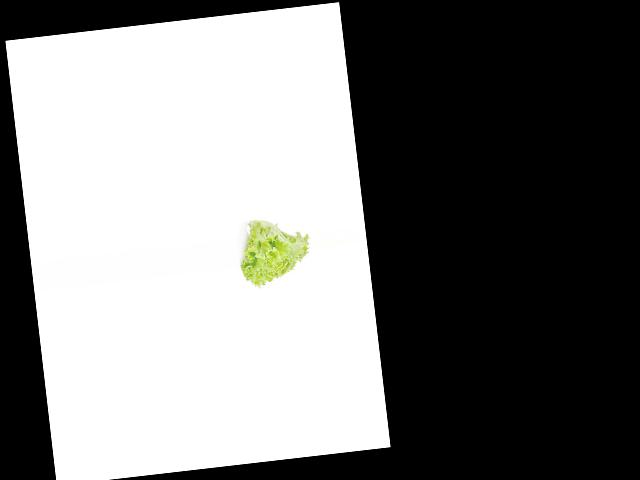lettuce: (235, 209, 316, 293)
